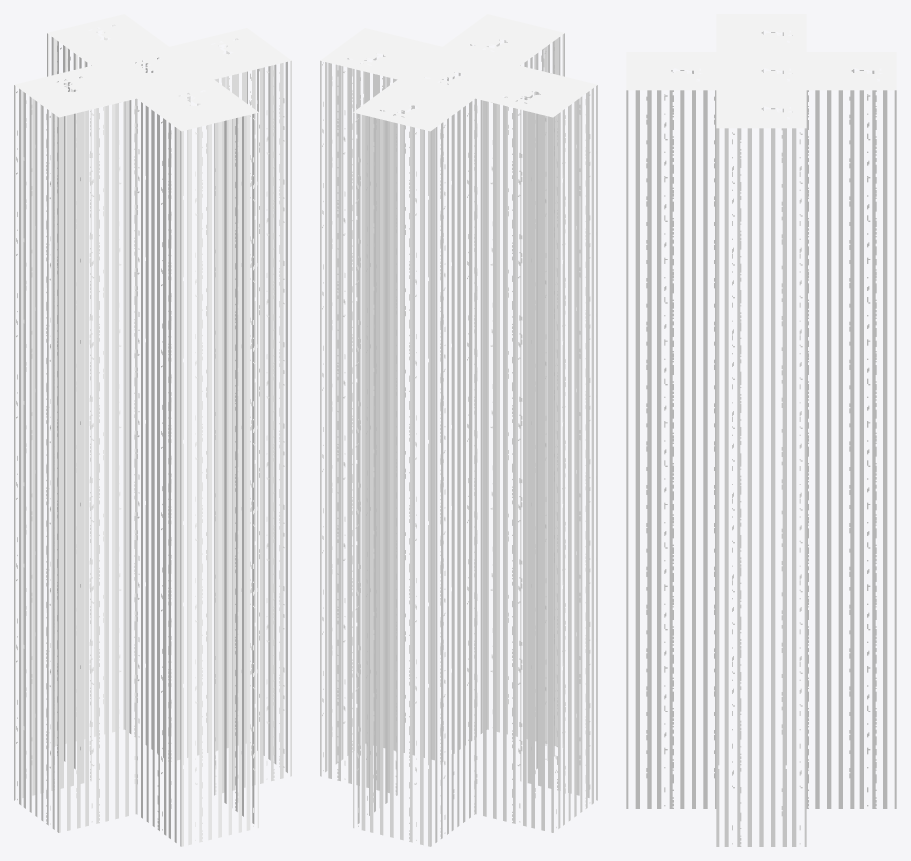
The model's file is uvmd-0148.glb.
The picture shows the model from 3 angles, left to right: view 1: azimuth 30°, elevation 25°; view 2: azimuth 150°, elevation 25°; view 3: azimuth 270°, elevation 25°; orthographic projection.
Parts seen in each view (by area): view 1: uvmd-0148; view 2: uvmd-0148; view 3: uvmd-0148.
Boxes of the visible parts, <box> form: uvmd-0148: <box>14,14,291,846</box>; uvmd-0148: <box>320,14,597,846</box>; uvmd-0148: <box>626,14,896,846</box>.
Bounding box in the file's own units: 300 × 880 × 300.
Materials: 2 (2 with a texture image).
